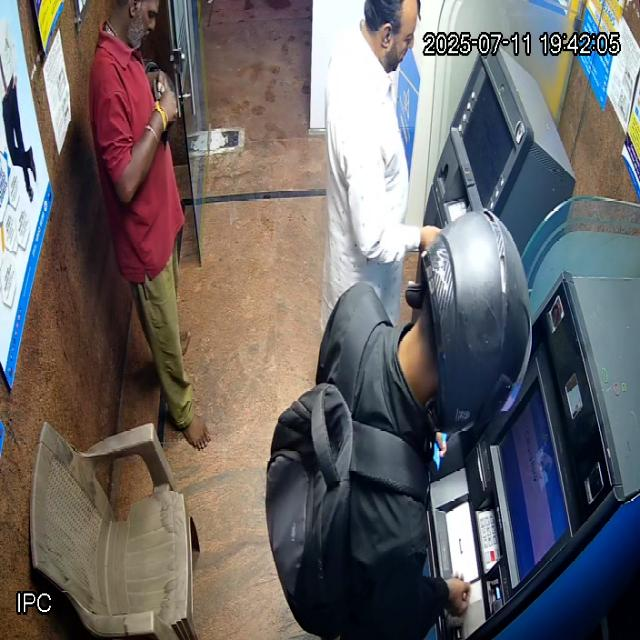helmet: (397, 209, 532, 438)
no_helmet: (361, 0, 418, 74), (104, 0, 160, 50)
